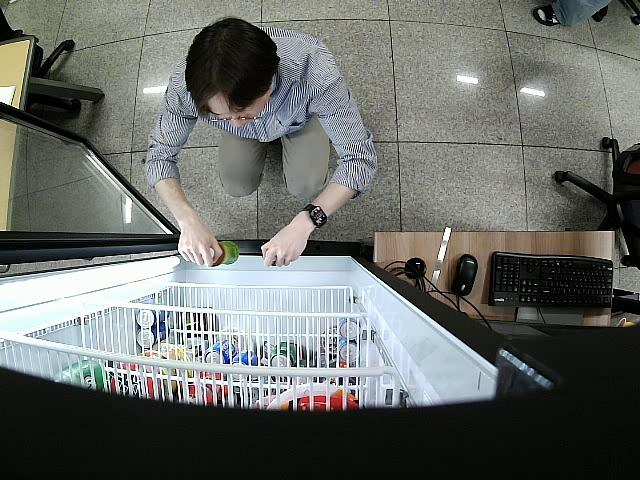00_hand: (260, 226, 308, 267), (176, 232, 223, 267)
19_17cha: (206, 239, 241, 266), (208, 240, 239, 265)
